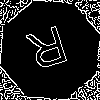R: (25, 25, 73, 80)
